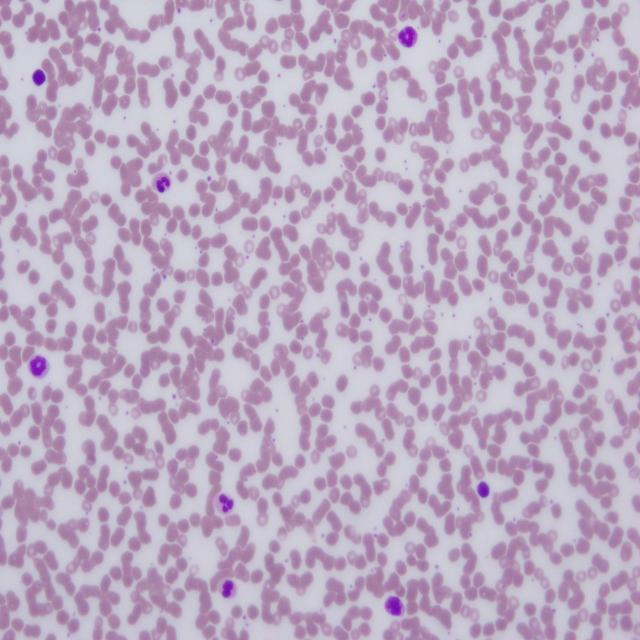cell: (215, 492, 234, 515), (152, 172, 171, 193), (221, 579, 236, 598)
